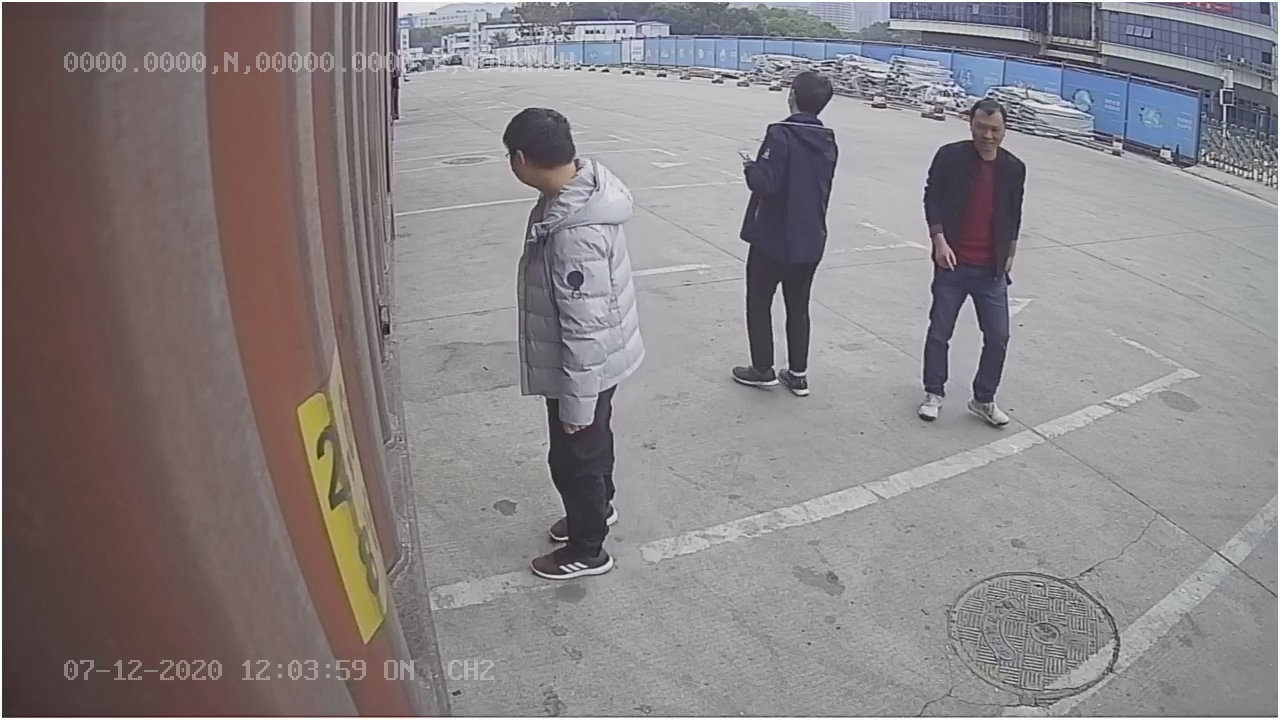person: (485, 101, 646, 584), (910, 90, 1034, 434), (727, 62, 847, 404)
